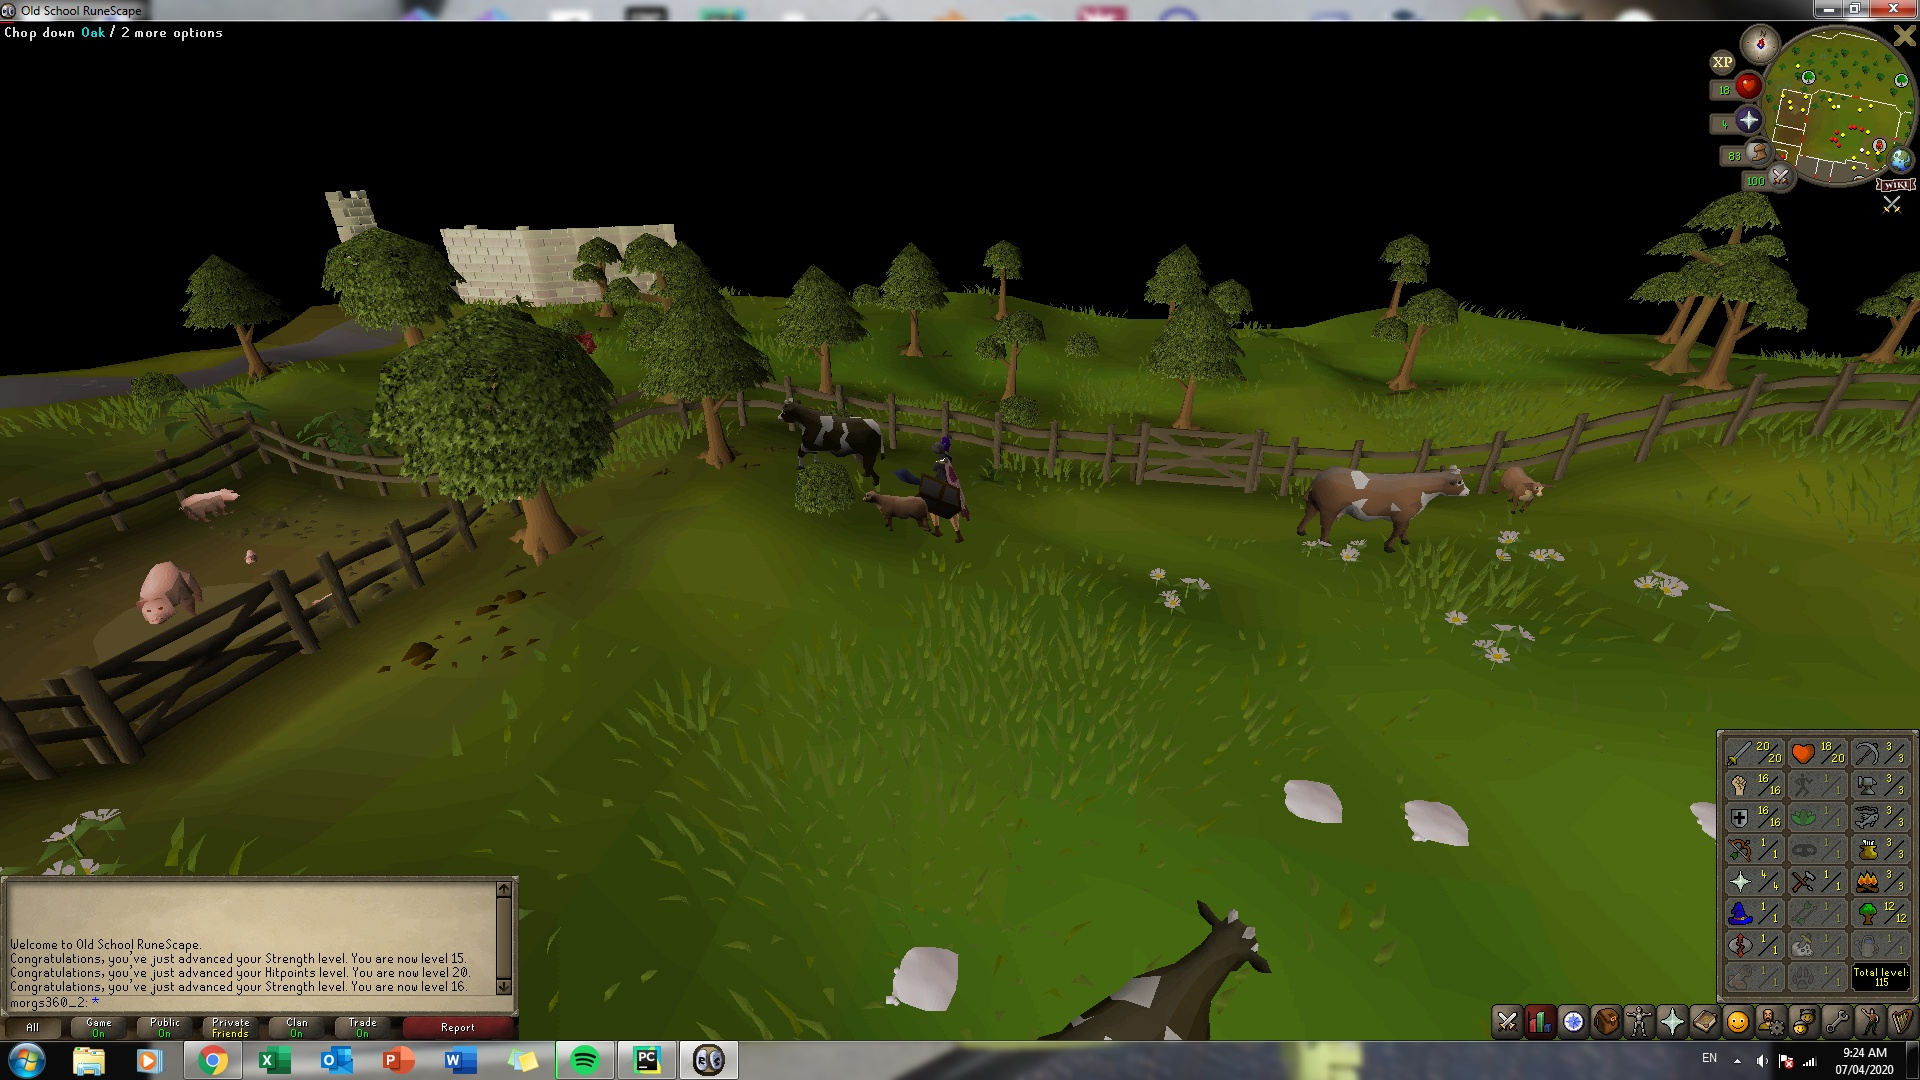cow: (1029, 895, 1274, 1043), (1295, 462, 1480, 562), (782, 388, 895, 487)
